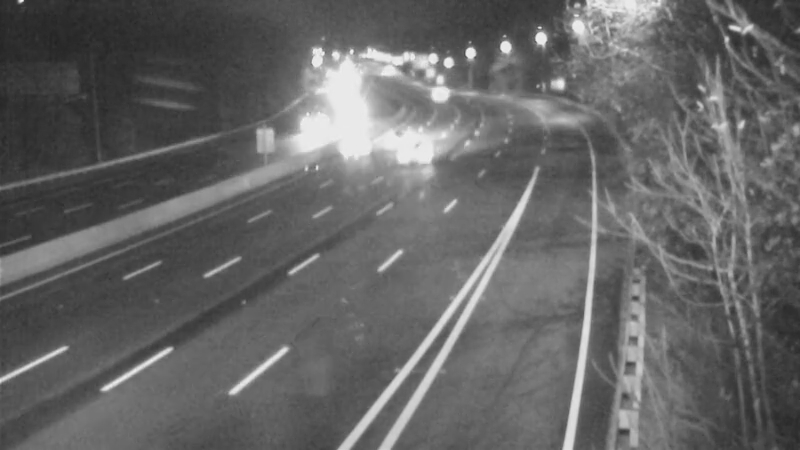vehicle: (381, 117, 461, 197), (412, 68, 462, 118), (369, 112, 419, 162), (327, 119, 377, 169), (289, 98, 339, 148)
